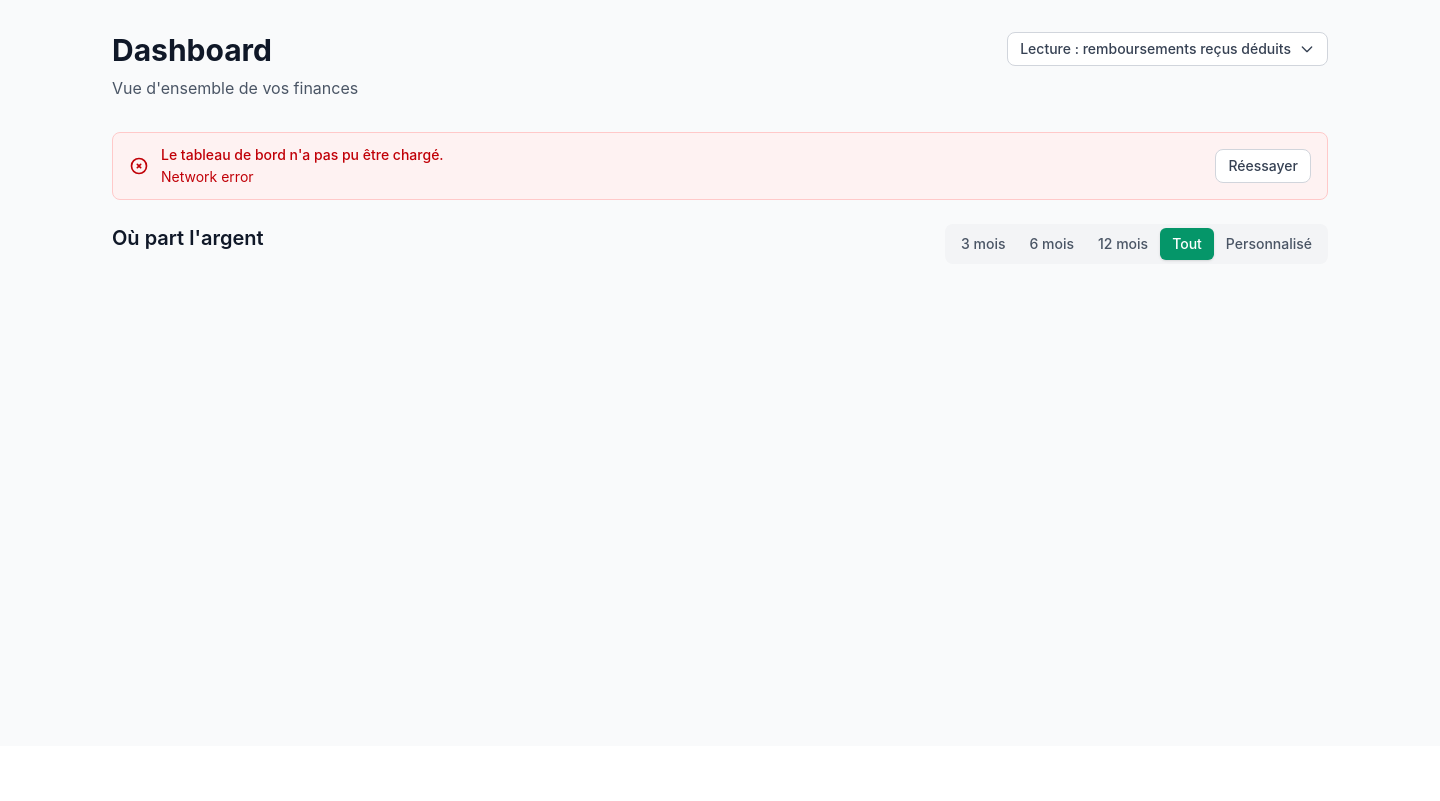
DashboardPage › offers a retry on failure and keeps the filters mounted
Expected: the element with test id "dashboard-period" is shown, [945, 224, 1328, 264]
Expected: the element with test id "reading-menu" is shown, [1007, 32, 1328, 66]
Click the button with test id "dashboard-retry": click(1263, 166) [1215, 149, 1311, 183]
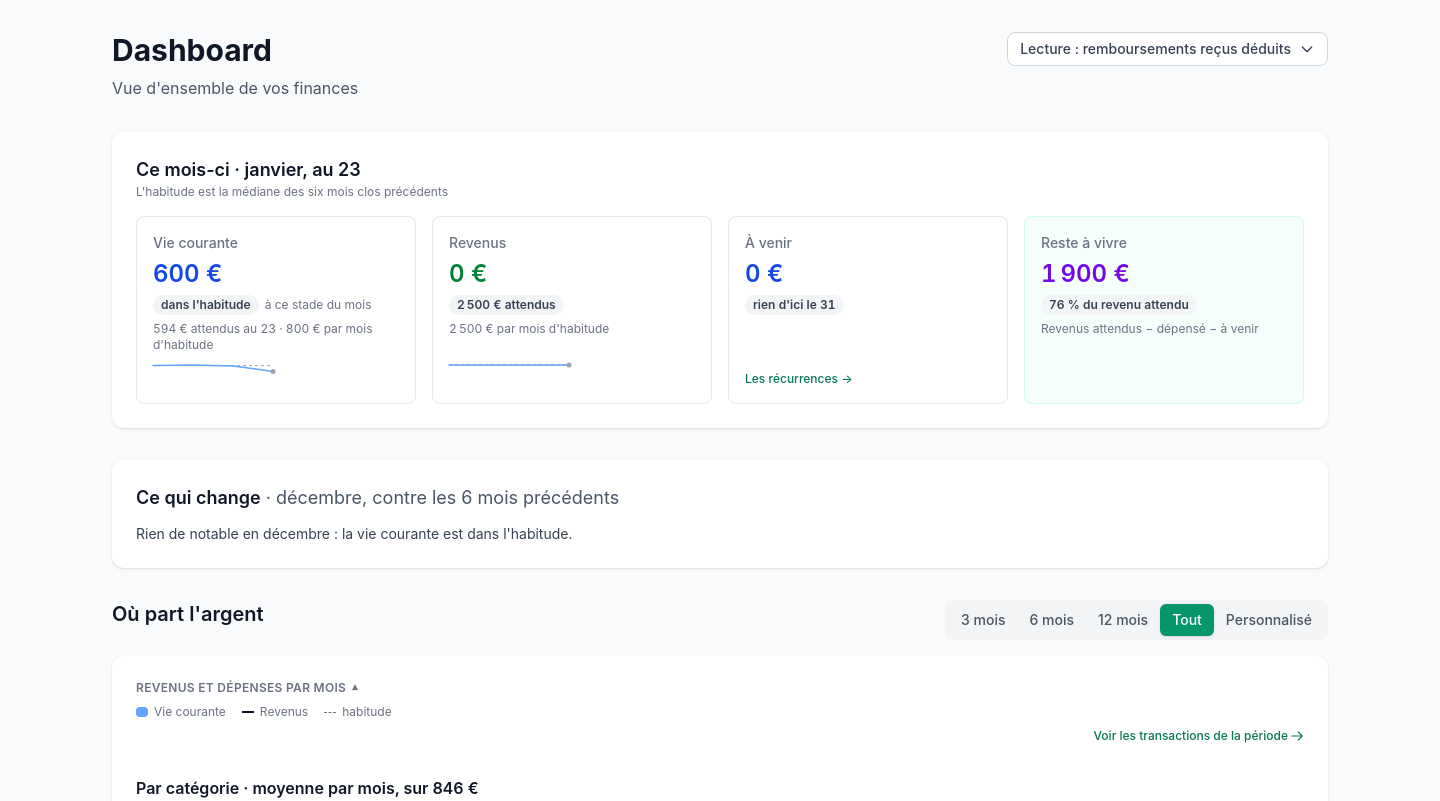
Result: the element with test id "month-band" is shown at [112, 132, 1328, 428]
